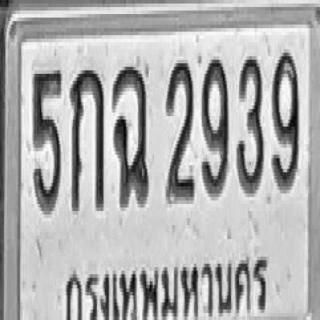A01: (70, 67, 104, 211)
A09: (111, 63, 149, 208)
N02: (165, 60, 194, 200)
N03: (236, 53, 264, 193)
N05: (32, 65, 61, 213)
N09: (200, 56, 228, 197), (271, 49, 299, 190)
P04: (61, 250, 273, 320)
